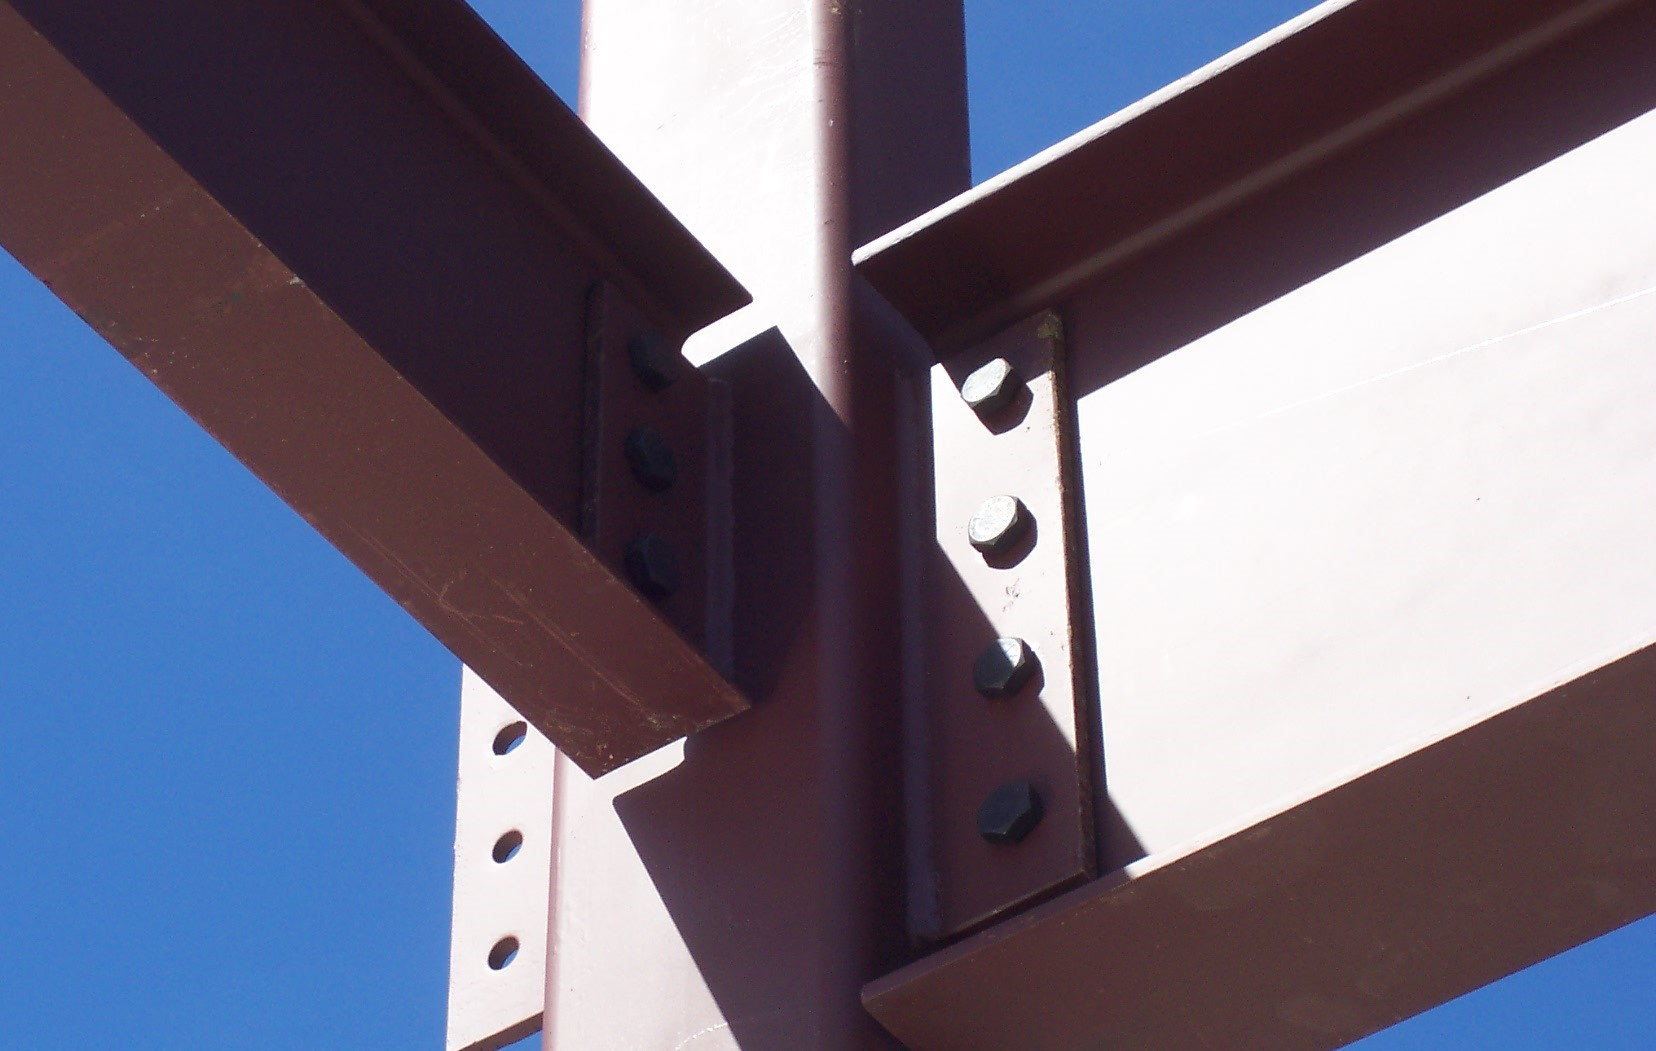bolt_a: (972, 780, 1044, 848), (963, 492, 1030, 559), (972, 635, 1037, 702), (960, 358, 1022, 419)
vague: (628, 524, 684, 603), (623, 420, 681, 494), (628, 325, 681, 392)
